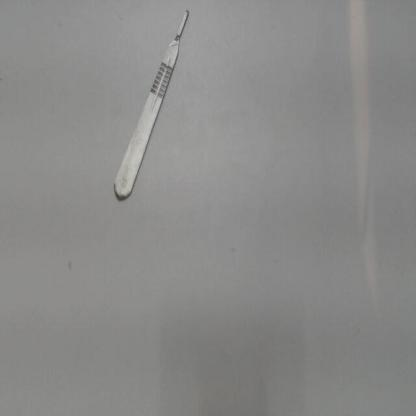No.3 BP Handle: (106, 4, 196, 209)
